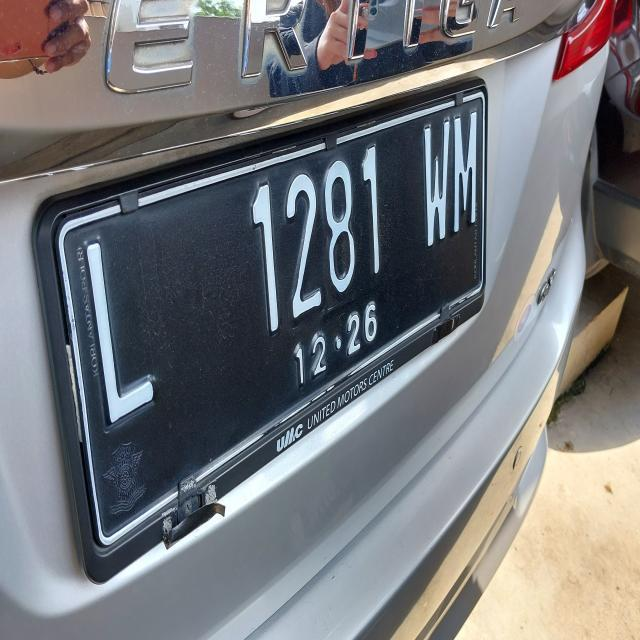1: (228, 158, 288, 346), (361, 142, 403, 308)
2: (280, 165, 330, 322)
8: (312, 157, 371, 300)
L: (75, 216, 197, 438)
M: (447, 98, 495, 239)
W: (416, 117, 459, 268)
